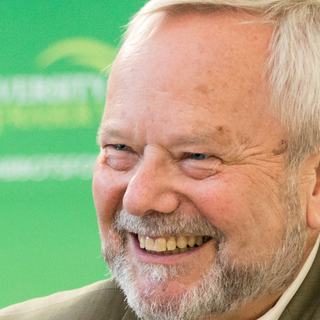eye: (164, 138, 232, 179), (95, 132, 145, 169)
